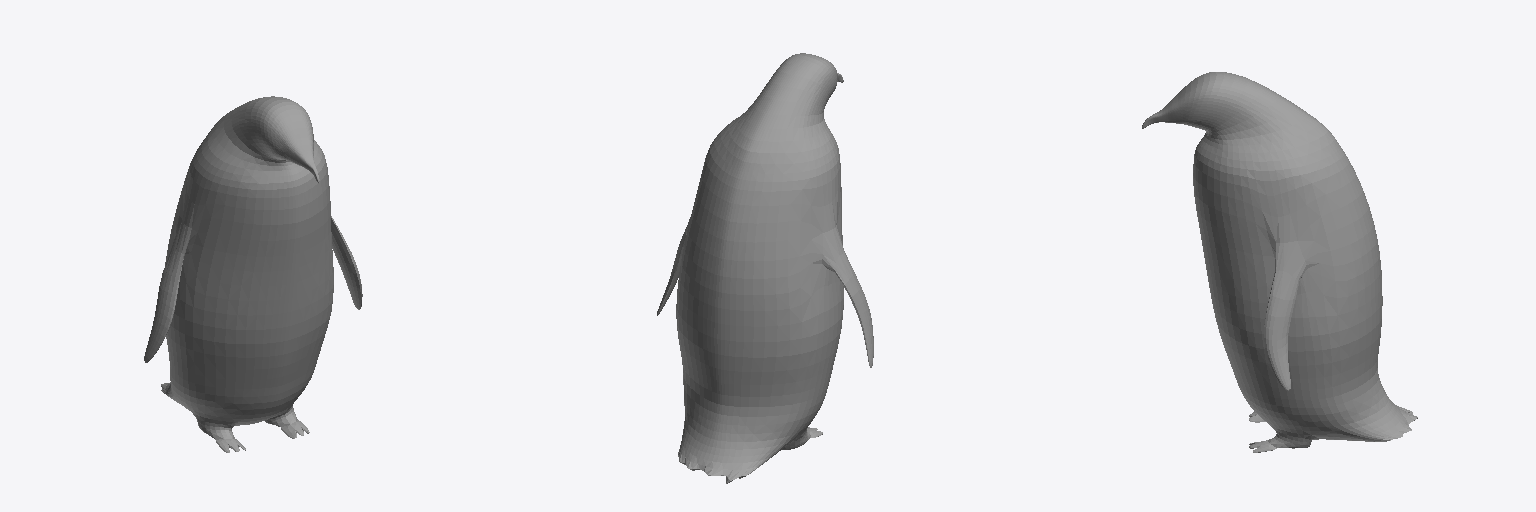
Rendered from penguin.obj.
3 renders of one model, left to right at view 1: azimuth 30°, elevation 25°; view 2: azimuth 150°, elevation 25°; view 3: azimuth 270°, elevation 25°, orthographic.
Visible parts, largest first — view 1: Penguin_Cylinder; view 2: Penguin_Cylinder; view 3: Penguin_Cylinder.
Boxes of the visible parts, box(x1,y1,x2,y2) form: Penguin_Cylinder: box(144, 96, 362, 452); Penguin_Cylinder: box(657, 53, 873, 483); Penguin_Cylinder: box(1142, 72, 1417, 452).
Bounding box in the file's own units: 0.7502 × 1.19 × 0.8357.